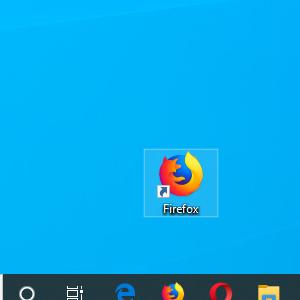firefox: (157, 150, 204, 198), (161, 282, 185, 300)
